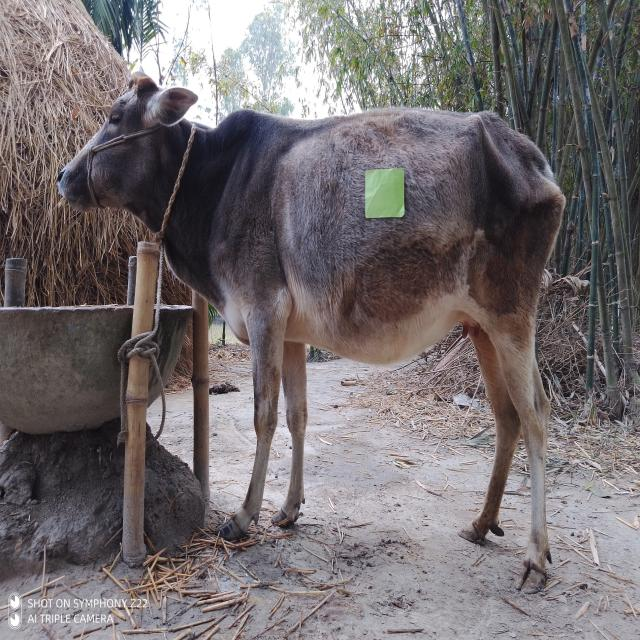badan_sapi: (244, 109, 540, 345)
sapi: (50, 71, 576, 596)
